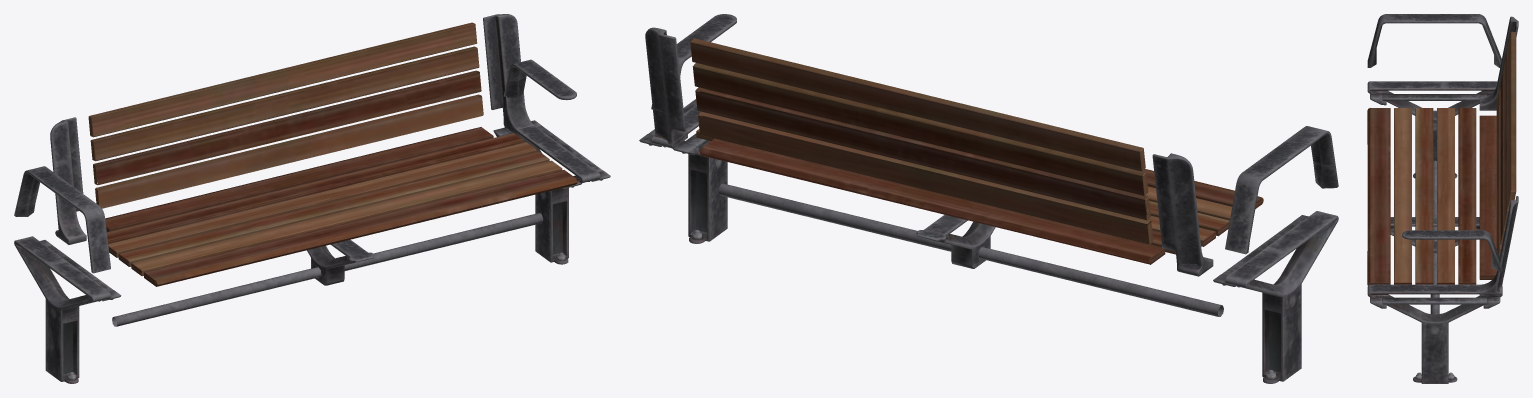
Rendered from bench.glb.
The picture shows the model from 3 angles, left to right: view 1: azimuth 30°, elevation 25°; view 2: azimuth 150°, elevation 25°; view 3: azimuth 270°, elevation 25°; orthographic projection. The views are drawn at different scales.
Parts seen in each view (by area): view 1: seat_back, seat, legs_single, legs_double, crossbar, back_support_l, arm_rest_01, back_support_r, suspended_support_01, arm_rest_02; view 2: seat_back, seat, legs_single, crossbar, arm_rest_01, back_support_r, legs_double, back_support_l, suspended_support_01, arm_rest_02; view 3: seat, legs_double, seat_back, legs_single, arm_rest_01, arm_rest_02, back_support_l, back_support_r, crossbar, suspended_support_01.
Boxes of the visible parts, x1=… form: seat_back: x1=88, y1=22, x2=483, y2=208; seat: x1=105, y1=127, x2=577, y2=286; legs_single: x1=14, y1=236, x2=121, y2=383; legs_double: x1=493, y1=120, x2=610, y2=264; crossbar: x1=112, y1=213, x2=543, y2=326; back_support_l: x1=483, y1=14, x2=534, y2=135; arm_rest_01: x1=14, y1=166, x2=110, y2=273; back_support_r: x1=50, y1=117, x2=86, y2=244; suspended_support_01: x1=307, y1=239, x2=374, y2=285; arm_rest_02: x1=503, y1=59, x2=576, y2=100; seat_back: x1=690, y1=38, x2=1153, y2=244; seat: x1=696, y1=129, x2=1263, y2=264; legs_single: x1=1213, y1=211, x2=1338, y2=383; crossbar: x1=718, y1=183, x2=1223, y2=316; arm_rest_01: x1=1225, y1=126, x2=1338, y2=254; back_support_r: x1=1152, y1=153, x2=1213, y2=276; legs_double: x1=639, y1=99, x2=727, y2=243; back_support_l: x1=645, y1=27, x2=687, y2=146; suspended_support_01: x1=916, y1=214, x2=995, y2=268; arm_rest_02: x1=651, y1=14, x2=736, y2=111; seat: x1=1367, y1=108, x2=1496, y2=285; legs_double: x1=1367, y1=284, x2=1502, y2=383; seat_back: x1=1496, y1=31, x2=1516, y2=256; legs_single: x1=1367, y1=81, x2=1497, y2=178; arm_rest_01: x1=1367, y1=14, x2=1501, y2=67; arm_rest_02: x1=1402, y1=230, x2=1502, y2=271; back_support_l: x1=1479, y1=196, x2=1518, y2=296; back_support_r: x1=1479, y1=16, x2=1518, y2=110; crossbar: x1=1430, y1=160, x2=1439, y2=314; suspended_support_01: x1=1390, y1=217, x2=1479, y2=253.
Size of the model in its own units: 2.27 by 0.8669 by 0.6711.
4 materials, 4 textured.
